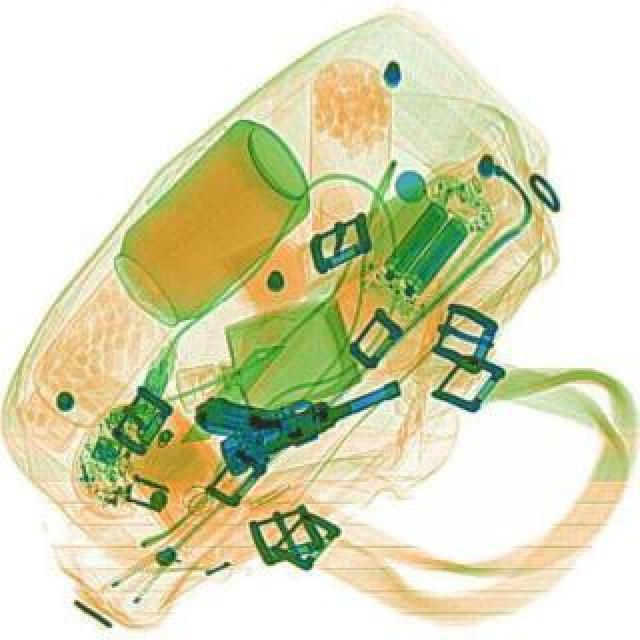gun: (188, 328, 404, 472)
